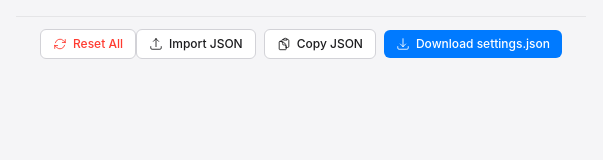
Test case: ActionBar › should show success message after copying
Click the button "Copy JSON". click: (320, 44)
box: [264,28,376,58]
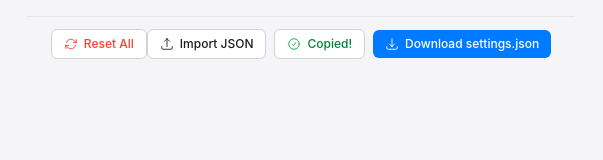
Check: the text "Copied!" is shown, box [308,36,352,52]
